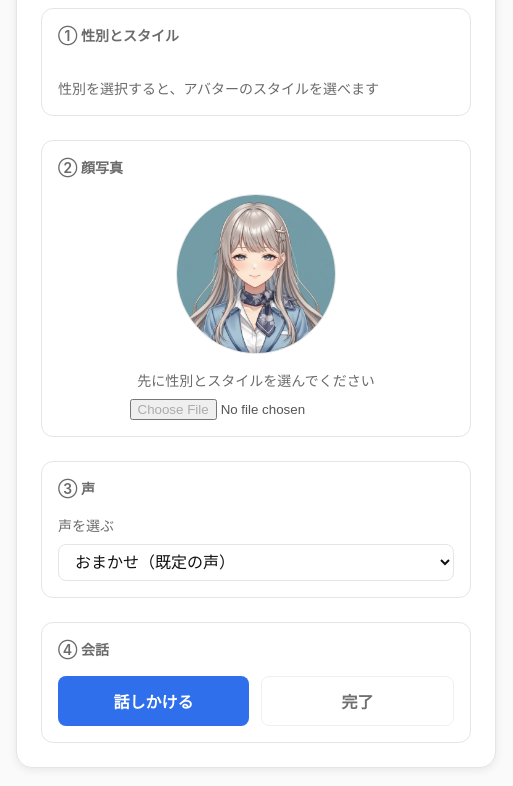
AvatarPanel › shows an error message if starting the conversation fails
(page scrolled)
Click the button "話しかける" at [154, 701], box [58,676,249,726]
(page scrolled)
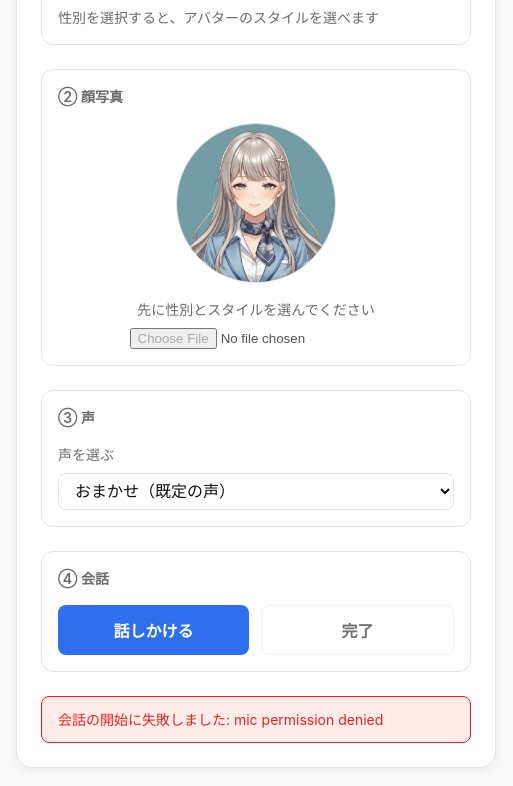
Expected: the message shows "mic permission denied", [58,711,383,728]
